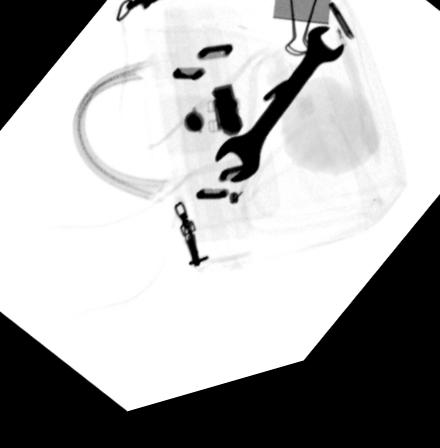Wrench: (211, 42, 344, 197)
